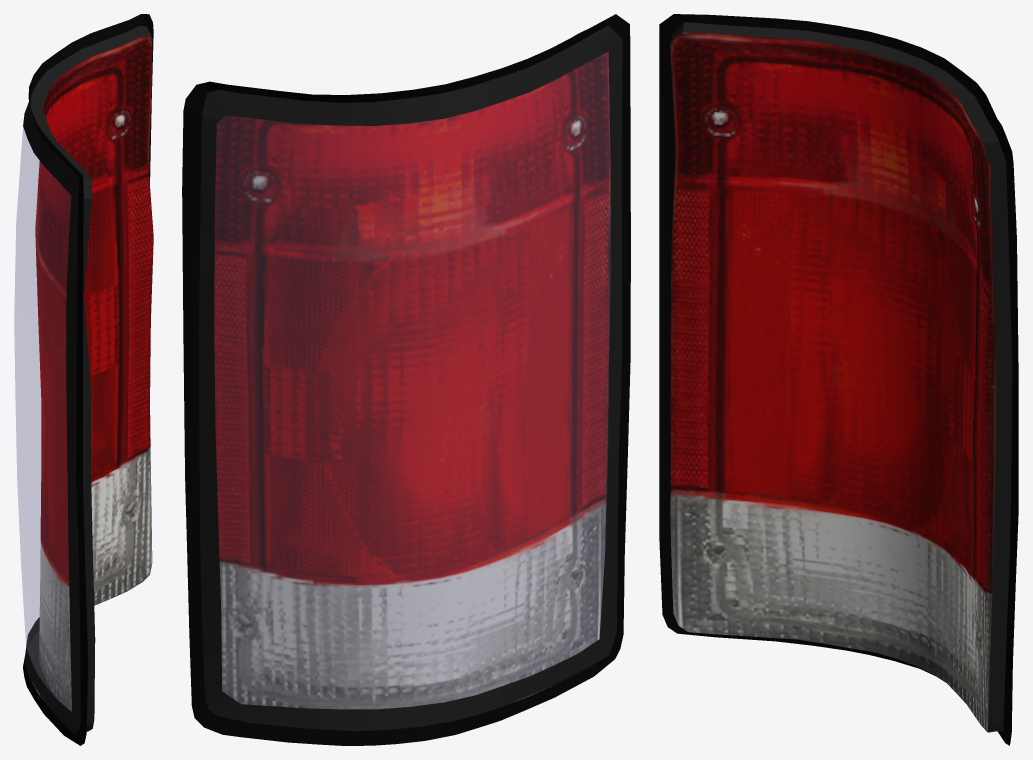
3 views of the same model, side by side, from view 1: azimuth 30°, elevation 25°; view 2: azimuth 150°, elevation 25°; view 3: azimuth 270°, elevation 25° (orthographic). The views are drawn at different scales.
Parts seen in each view (by area): view 1: P615_5A_541C_L_P615_5A_541C_L_3_N, P615_5A_541C_L_1_DTaSI_P615_5A_541C_L, P615_5A_541C_L_P615_5A_541C_L_2_D, P615_5A_541C_L_P615_5A_541C_L_4_D; view 2: P615_5A_541C_L_P615_5A_541C_L_3_N, P615_5A_541C_L_1_DTaSI_P615_5A_541C_L, P615_5A_541C_L_P615_5A_541C_L_2_D, P615_5A_541C_L_P615_5A_541C_L_4_D; view 3: P615_5A_541C_L_P615_5A_541C_L_3_N, P615_5A_541C_L_P615_5A_541C_L_4_D, P615_5A_541C_L_P615_5A_541C_L_2_D.
Boxes of the visible parts, left/top/right/bottom form: P615_5A_541C_L_P615_5A_541C_L_3_N: left=35, top=35, right=153, bottom=711; P615_5A_541C_L_1_DTaSI_P615_5A_541C_L: left=14, top=127, right=71, bottom=710; P615_5A_541C_L_P615_5A_541C_L_2_D: left=23, top=26, right=151, bottom=733; P615_5A_541C_L_P615_5A_541C_L_4_D: left=23, top=14, right=153, bottom=745; P615_5A_541C_L_P615_5A_541C_L_3_N: left=214, top=51, right=610, bottom=709; P615_5A_541C_L_1_DTaSI_P615_5A_541C_L: left=214, top=52, right=610, bottom=708; P615_5A_541C_L_P615_5A_541C_L_2_D: left=198, top=25, right=622, bottom=731; P615_5A_541C_L_P615_5A_541C_L_4_D: left=182, top=14, right=630, bottom=745; P615_5A_541C_L_P615_5A_541C_L_3_N: left=670, top=32, right=996, bottom=732; P615_5A_541C_L_P615_5A_541C_L_4_D: left=659, top=14, right=1018, bottom=745; P615_5A_541C_L_P615_5A_541C_L_2_D: left=670, top=22, right=1012, bottom=732.
Bounding box in the file's own units: 14.5 × 34.21 × 17.77.
